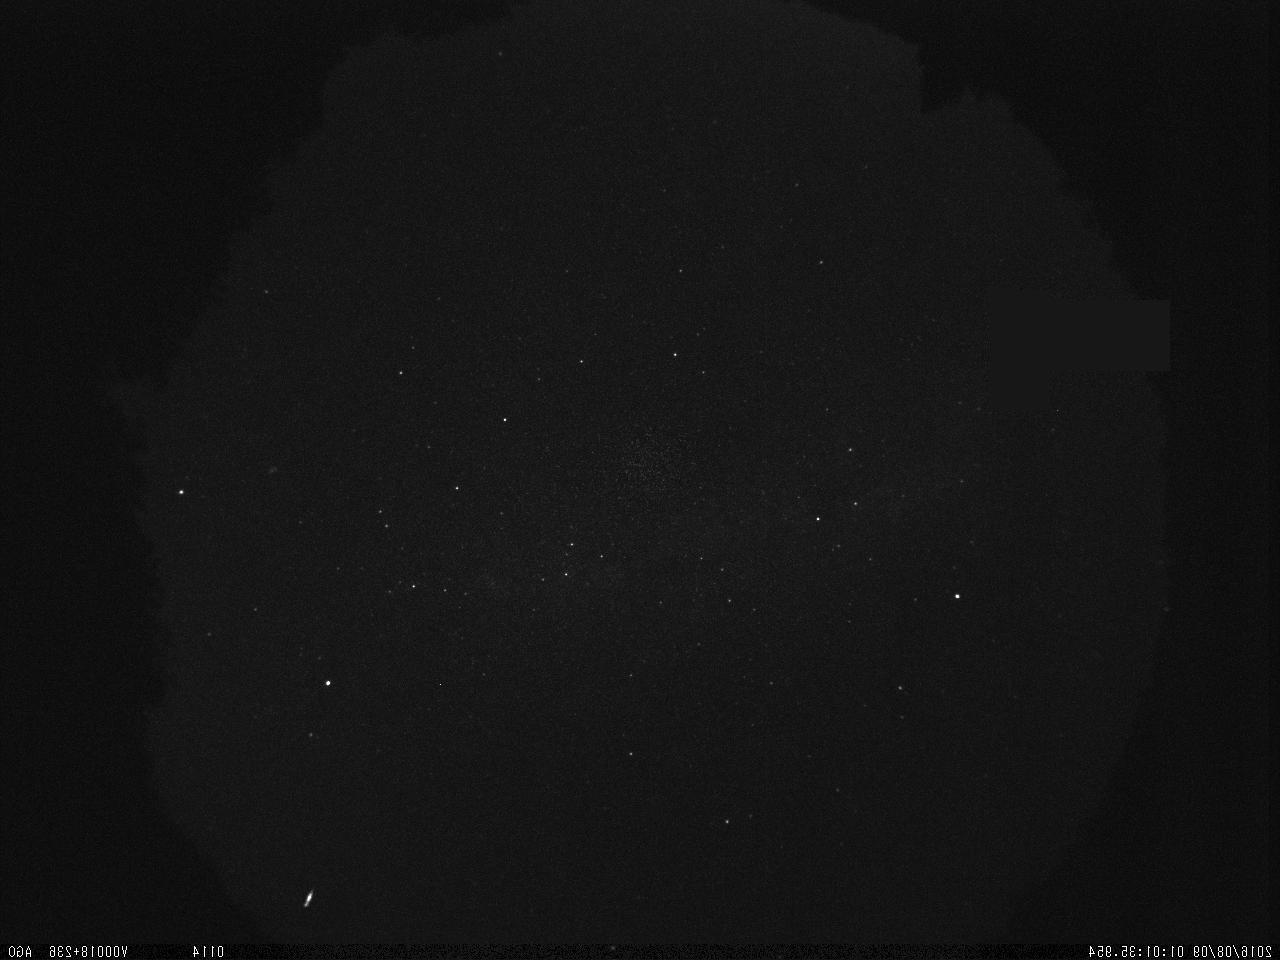meteor: (289, 882, 329, 918)
